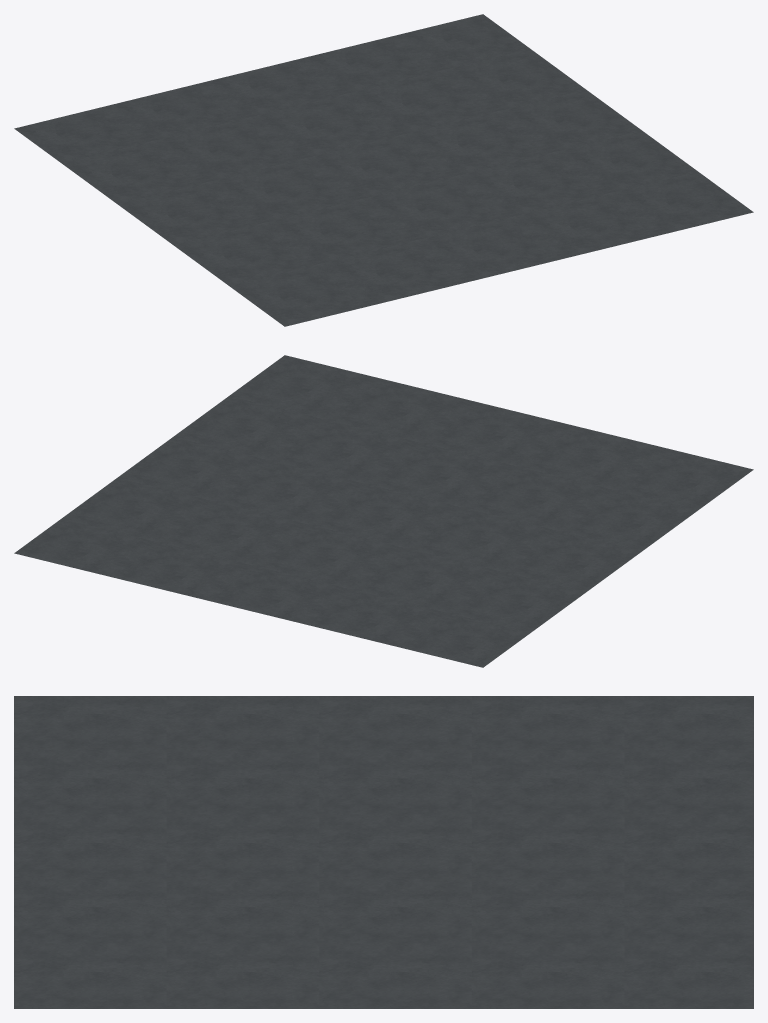
The picture shows the model from 3 angles, top to bottom: view 1: azimuth 30°, elevation 25°; view 2: azimuth 150°, elevation 25°; view 3: azimuth 270°, elevation 25°; orthographic projection. The views are drawn at different scales.
Bounding box in the file's own units: 16 × 0 × 16.
Materials: 1 (1 with a texture image).
